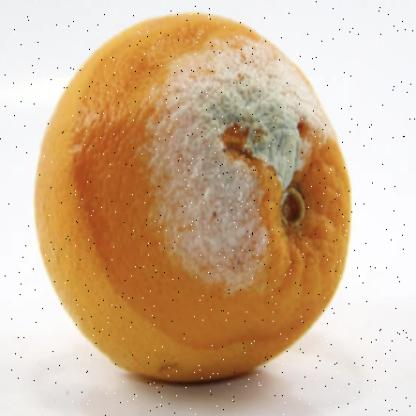rotten: (35, 12, 351, 382)
